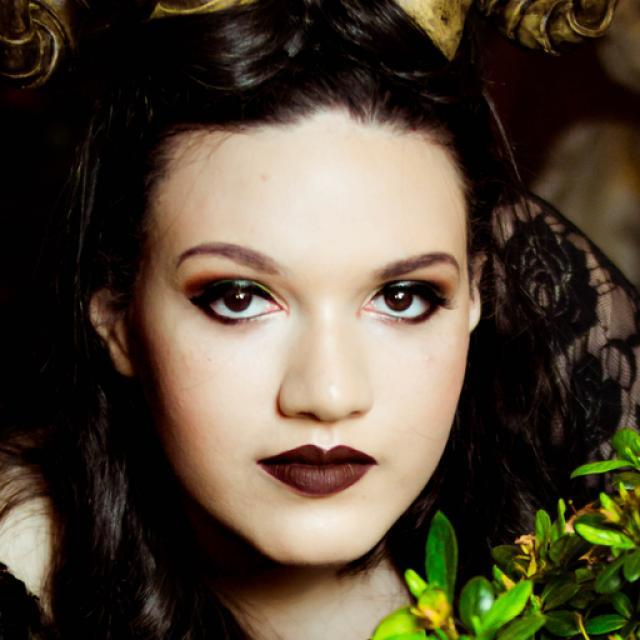neutral: (141, 119, 470, 566)
